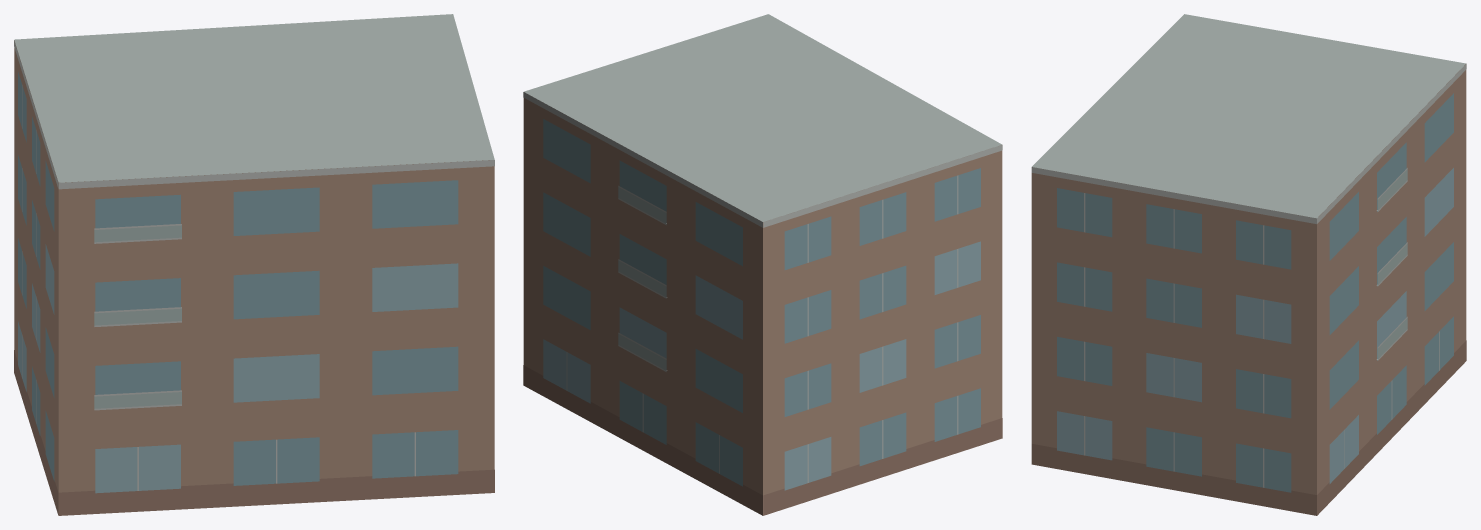
File: survey-upis-32526895.glb
The picture shows the model from 3 angles, left to right: view 1: azimuth 30°, elevation 25°; view 2: azimuth 150°, elevation 25°; view 3: azimuth 270°, elevation 25°; orthographic projection. The views are drawn at different scales.
Visible parts, largest first — view 1: survey-upis-32526895.tmp; view 2: survey-upis-32526895.tmp; view 3: survey-upis-32526895.tmp.
Part boxes in pixels (x1,y1,x2,y2): survey-upis-32526895.tmp: [14, 14, 494, 515]; survey-upis-32526895.tmp: [523, 14, 1002, 515]; survey-upis-32526895.tmp: [1031, 14, 1466, 515].
Bounding box in the file's own units: 18.28 × 12.4 × 16.43.
